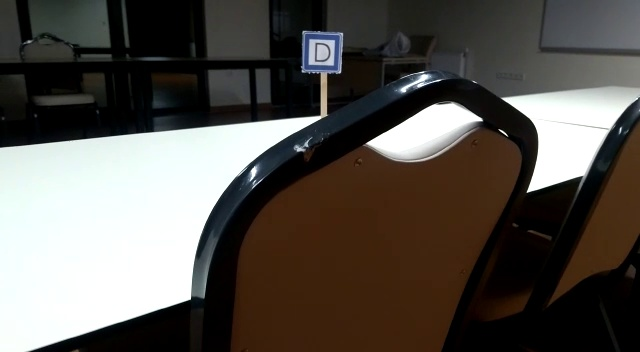durak: (302, 31, 342, 72)
